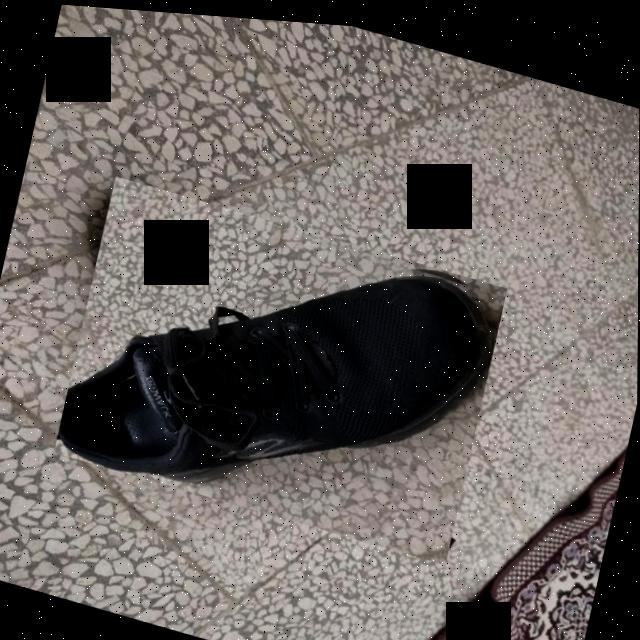shoe: (53, 171, 508, 561)
